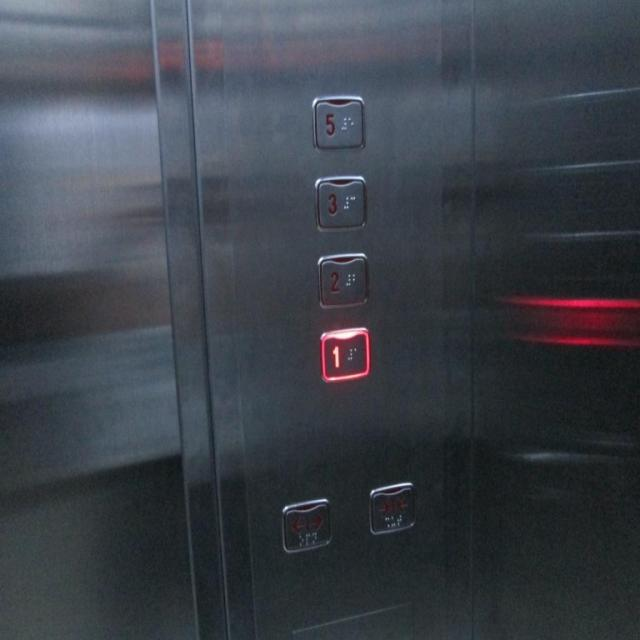1: (318, 323, 370, 382)
2: (316, 249, 370, 311)
3: (313, 172, 370, 234)
5: (311, 94, 367, 151)
close: (368, 482, 416, 533)
open: (280, 496, 332, 553)
